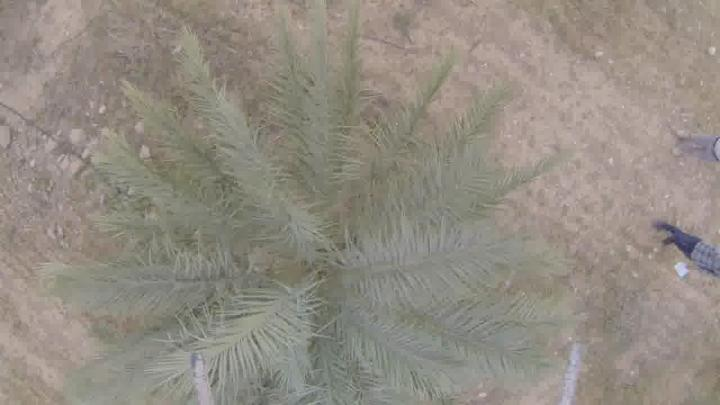Date-Palm-Crown: (180, 108, 462, 404)
